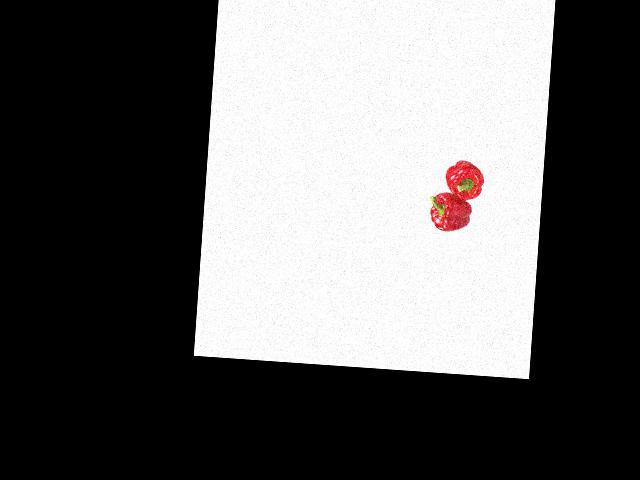bell_pepper: (426, 189, 476, 234)
